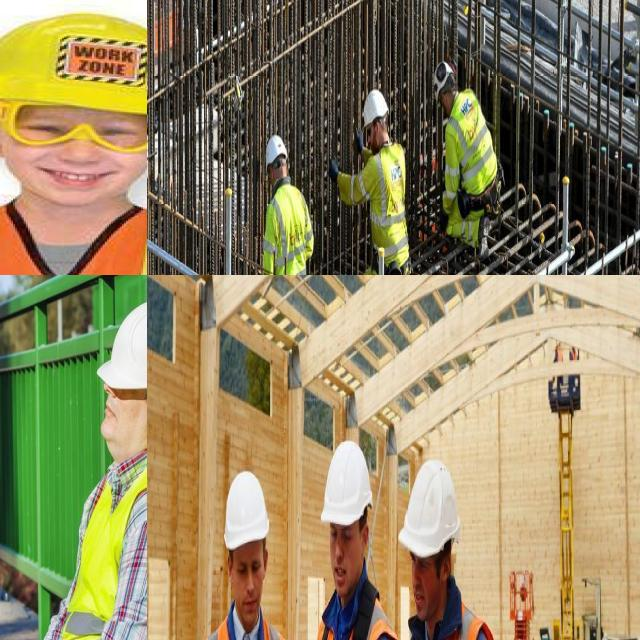face_nomask: (0, 104, 147, 197), (93, 376, 147, 455), (227, 541, 271, 630), (329, 516, 366, 596), (409, 541, 444, 625)
glasses: (0, 96, 147, 151)
head_helmet: (0, 14, 147, 122), (397, 458, 462, 562), (97, 298, 147, 400), (320, 437, 374, 529), (223, 469, 269, 551), (361, 85, 388, 127), (264, 133, 289, 172), (431, 60, 455, 100)
person: (0, 306, 147, 640), (0, 2, 147, 275), (198, 467, 309, 640), (308, 436, 396, 640), (328, 87, 418, 275), (404, 460, 498, 640), (434, 60, 506, 262), (257, 134, 346, 275)
vest: (56, 450, 147, 640), (0, 210, 147, 275), (314, 578, 403, 640), (364, 145, 409, 262), (446, 88, 497, 189), (263, 182, 312, 275), (401, 594, 500, 640)
